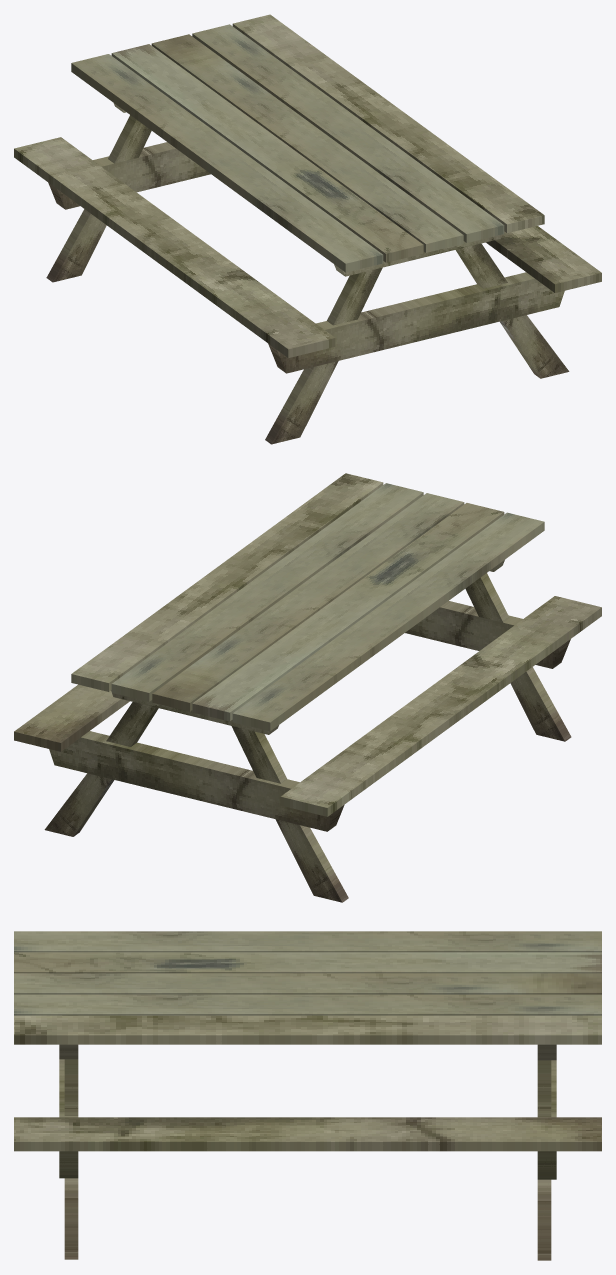
File: ForestBench.glb
3 renders of one model, top to bottom at view 1: azimuth 30°, elevation 25°; view 2: azimuth 150°, elevation 25°; view 3: azimuth 270°, elevation 25°, orthographic. The views are drawn at different scales.
Visible parts, largest first — view 1: ParkBench; view 2: ParkBench; view 3: ParkBench.
Boxes of the visible parts, left/top/right/bottom form: ParkBench: left=14, top=14, right=601, bottom=444; ParkBench: left=14, top=473, right=601, bottom=902; ParkBench: left=14, top=931, right=601, bottom=1260.
Bounding box in the file's own units: 1.79 × 1.02 × 2.72.
1 material, 1 textured.
